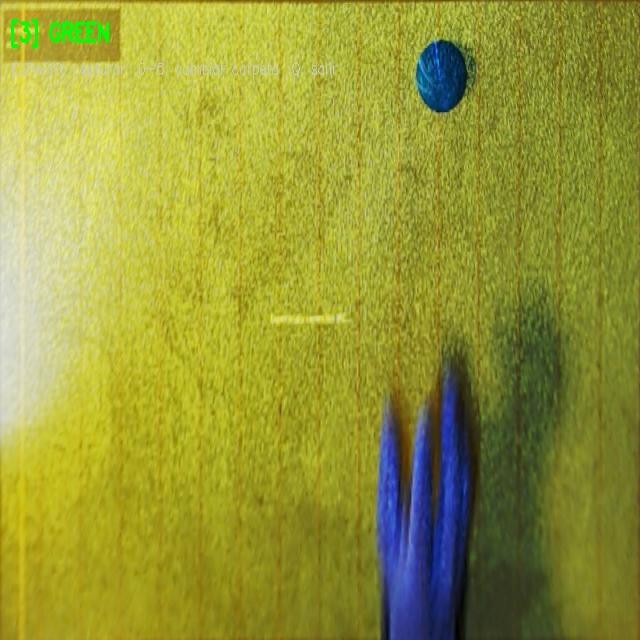green: (416, 34, 467, 116)
